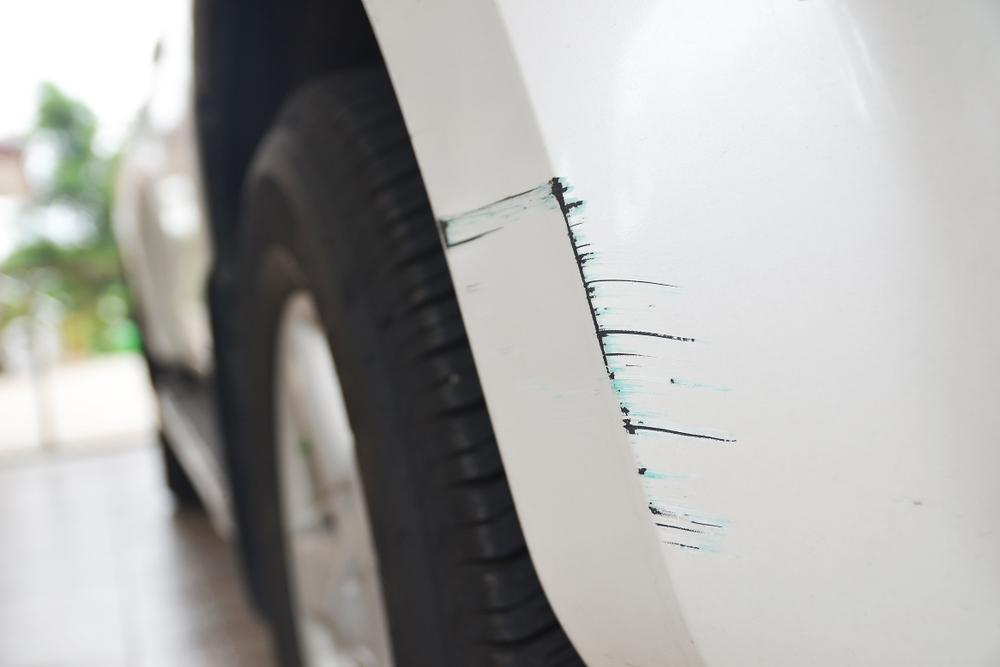scratch: (435, 172, 745, 558)
